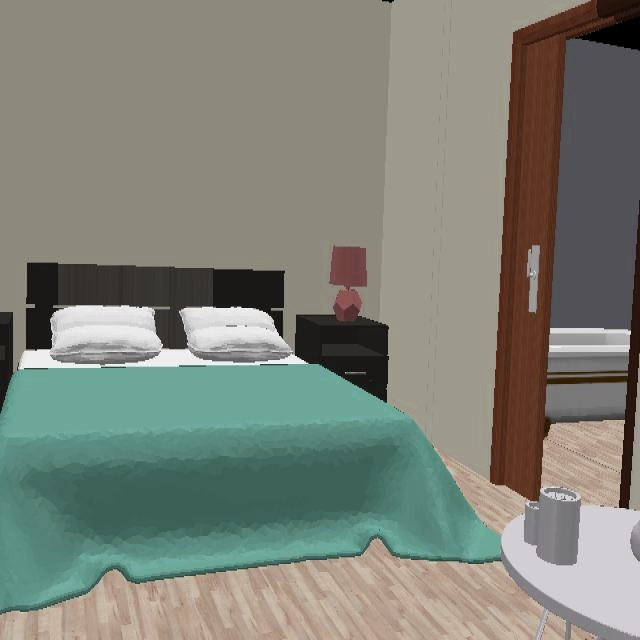bed: (0, 263, 504, 616)
lamp: (329, 247, 366, 325)
nighttable: (296, 315, 389, 404)
table: (502, 505, 640, 640)
